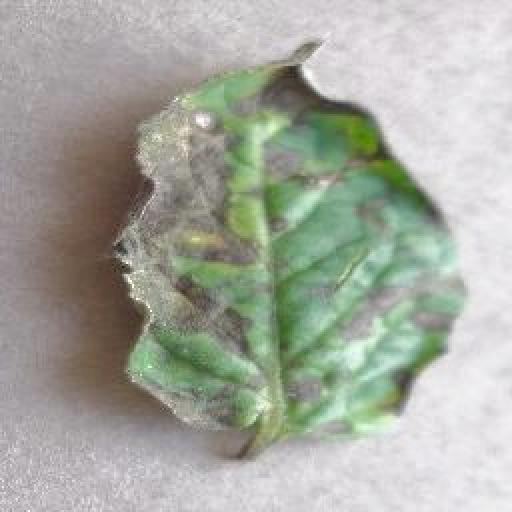disease_tomato: (110, 40, 470, 430)
